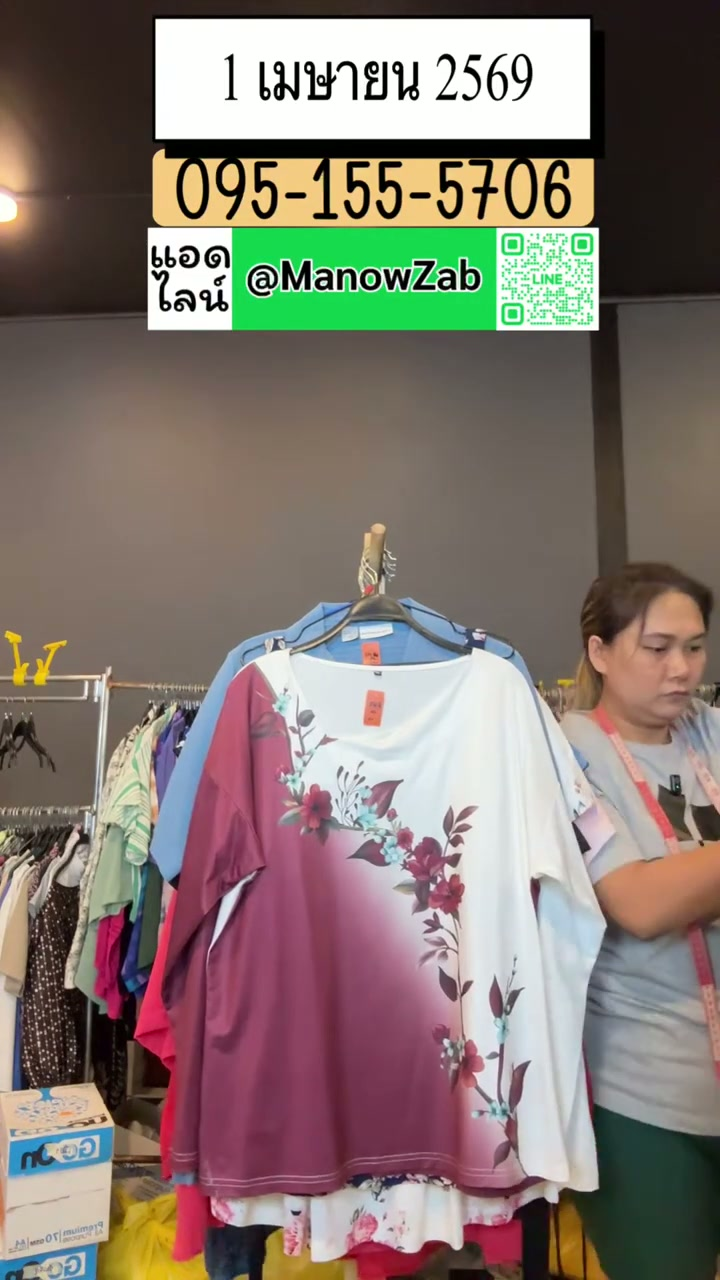display_shirt: (166, 650, 603, 1199)
